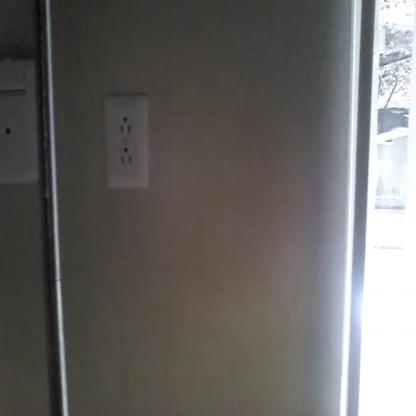OUTLET: (106, 94, 148, 191)
